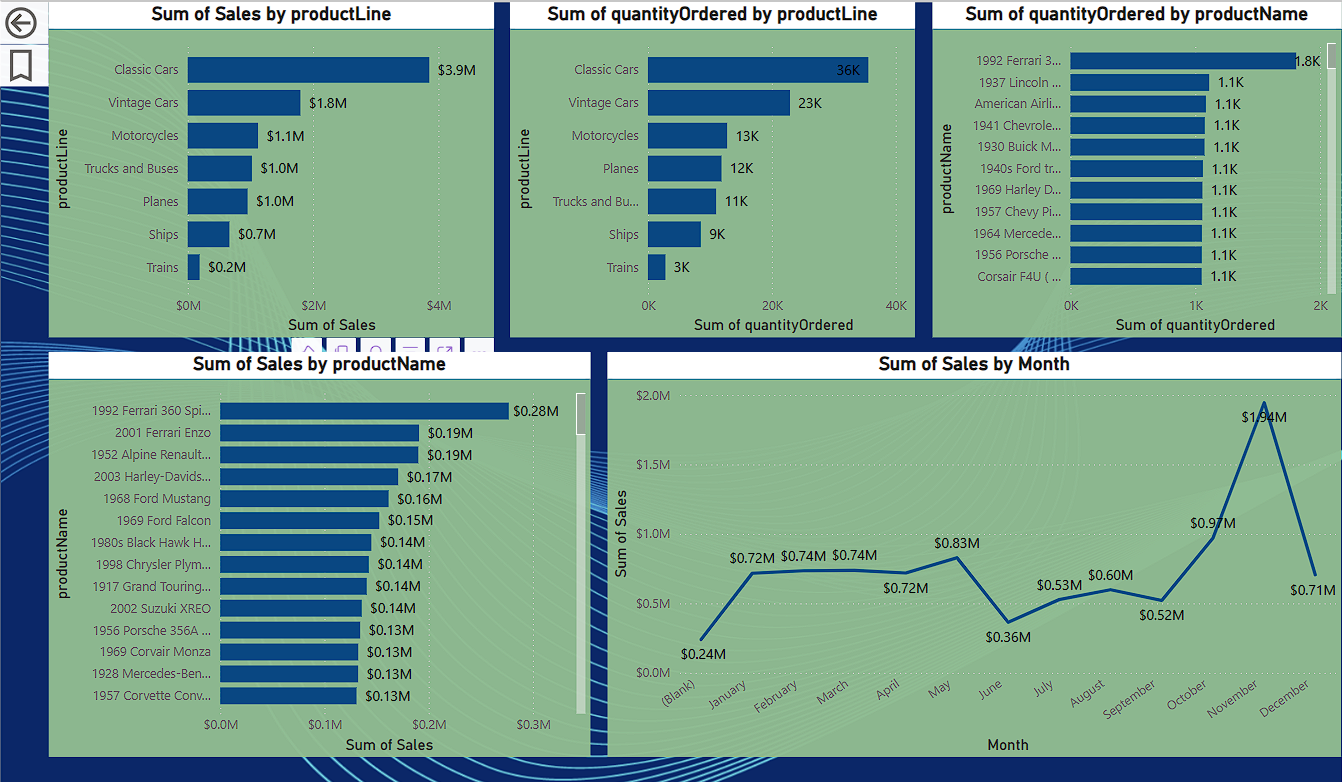

Layout of this report page (visuals, bound fields, positions):
{"tool":"powerbi","page":{"name":"Page 2","canvas":[1280,720],"ordinal":2},"visuals":[{"type":"actionButton","box":[0,0,46.7,40],"z":0},{"type":"barChart","fields":{"Category":["productlines.productLine"],"Y":["Sum(order_details.Sales)"]},"box":[46.7,0,425,320],"z":1000},{"type":"barChart","fields":{"Category":["productlines.productLine"],"Y":["Sum(order_details.quantityOrdered)"]},"box":[486.7,0,386.7,320],"z":2000},{"type":"barChart","fields":{"Y":["Sum(order_details.Sales)"],"Category":["products.productName"]},"box":[46.7,333.3,516.7,386.7],"z":3000},{"type":"barChart","fields":{"Y":["Sum(order_details.quantityOrdered)"],"Category":["products.productName"]},"box":[890,0,390,320],"z":4000},{"type":"lineChart","fields":{"Category":["order.orderDate.Variation.Date Hierarchy.Year","order.orderDate.Variation.Date Hierarchy.Quarter","order.orderDate.Variation.Date Hierarchy.Month","order.orderDate.Variation.Date Hierarchy.Day"],"Y":["Sum(order_details.Sales)"]},"box":[580,333.3,700,386.7],"z":5000},{"type":"actionButton","box":[0,40,46.7,40],"z":6000}]}

Visuals, with their boxes on the page's 1280x720 design canvas (x1, y1, x2, y2). These are canvas units, not pixel positions in the 1342x782 screenshot, which may show the page scaled, cropped or inside an application window:
actionButton: (0, 0, 47, 40)
barChart - productlines.productLine x Sum(order_details.Sales): (47, 0, 472, 320)
barChart - productlines.productLine x Sum(order_details.quantityOrdered): (487, 0, 873, 320)
barChart - Sum(order_details.Sales) x products.productName: (47, 333, 563, 720)
barChart - Sum(order_details.quantityOrdered) x products.productName: (890, 0, 1280, 320)
lineChart - order.orderDate.Variation.Date Hierarchy.Year x order.orderDate.Variation.Date Hierarchy.Quarter: (580, 333, 1280, 720)
actionButton: (0, 40, 47, 80)
